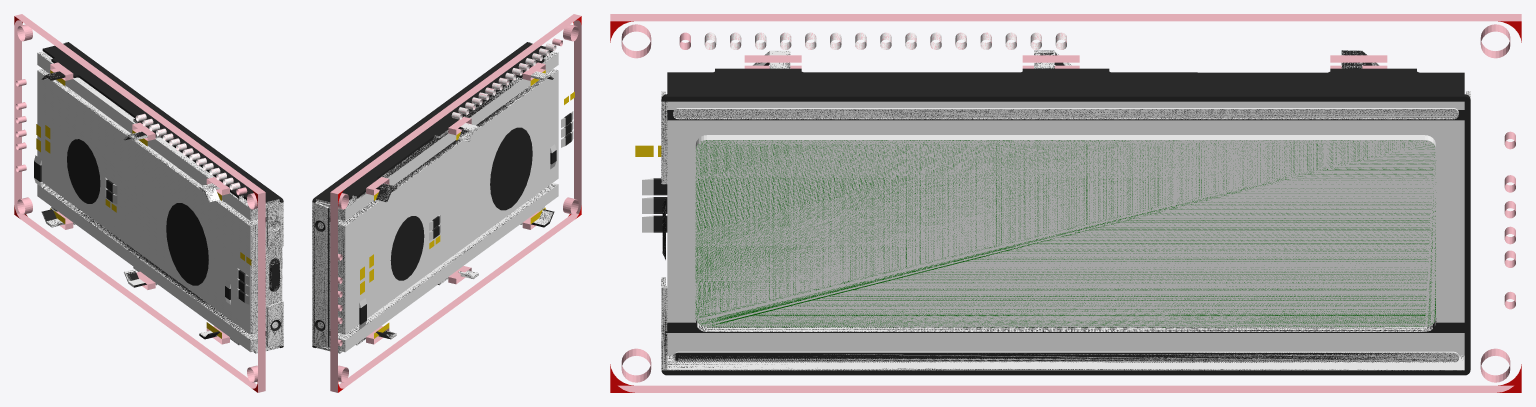
The model's file is lcd16x2.dae.
3 renders of one model, left to right at view 1: azimuth 30°, elevation 25°; view 2: azimuth 150°, elevation 25°; view 3: azimuth 270°, elevation 25°, orthographic. The views are drawn at different scales.
Parts seen in each view (by area): view 1: Componente (×10); view 2: Componente (×10); view 3: Componente (×12).
Part boxes in pixels (x1=…): Componente (×10): x1=14, y1=14, x2=283, y2=392; Componente (×10): x1=312, y1=14, x2=581, y2=392; Componente (×12): x1=610, y1=14, x2=1521, y2=392.
Bounding box in the file's own units: 0.378 × 3.15 × 1.42.
